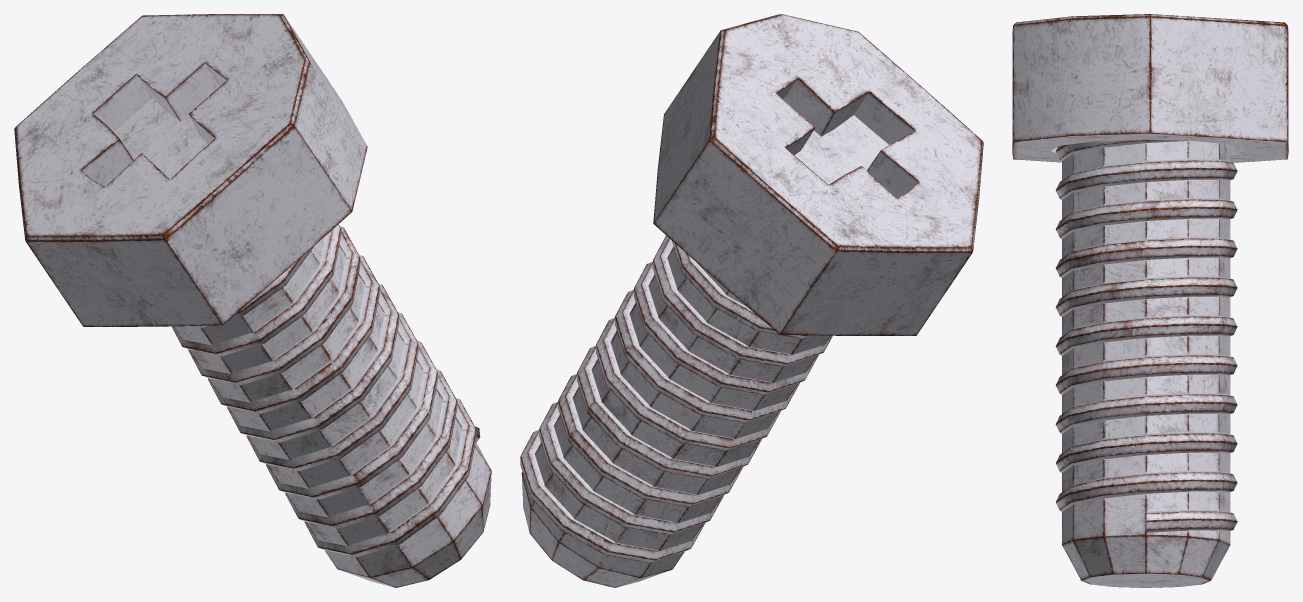
File: NewScrewCombined 1.fbx
The picture shows the model from 3 angles, left to right: view 1: azimuth 30°, elevation 25°; view 2: azimuth 150°, elevation 25°; view 3: azimuth 270°, elevation 25°; orthographic projection. The views are drawn at different scales.
Visible parts, largest first — view 1: newcombinedscrew_GEO; view 2: newcombinedscrew_GEO; view 3: newcombinedscrew_GEO.
Boxes of the visible parts, <box> form: newcombinedscrew_GEO: <box>14,14,491,587</box>; newcombinedscrew_GEO: <box>520,14,983,587</box>; newcombinedscrew_GEO: <box>1012,14,1288,587</box>.
Size of the model in its own units: 102 by 127 by 59.37.
